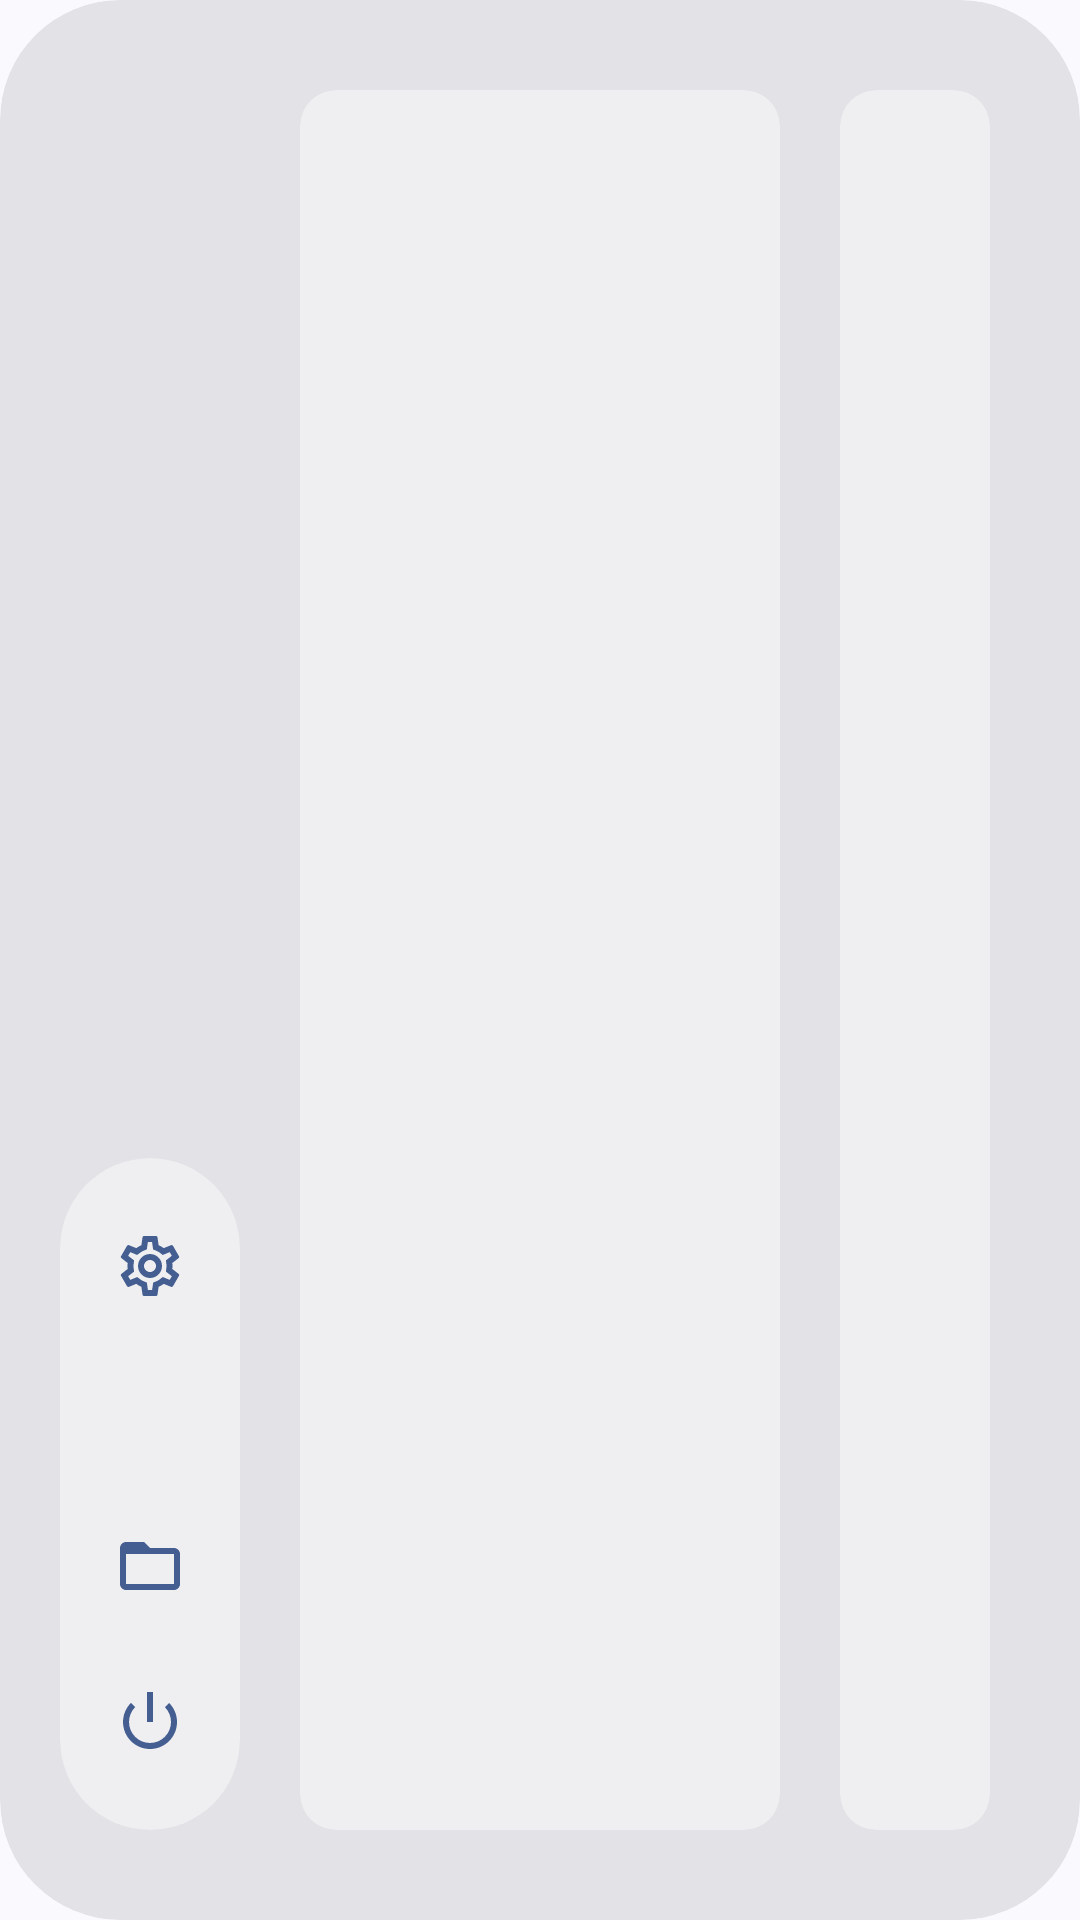

Named icons in this screenshot (1080w x 1920h) and their centers, (x=x, y=y):
folder open: (x=150, y=1566)
lock power off: (x=150, y=1720)
settings: (x=150, y=1266)
